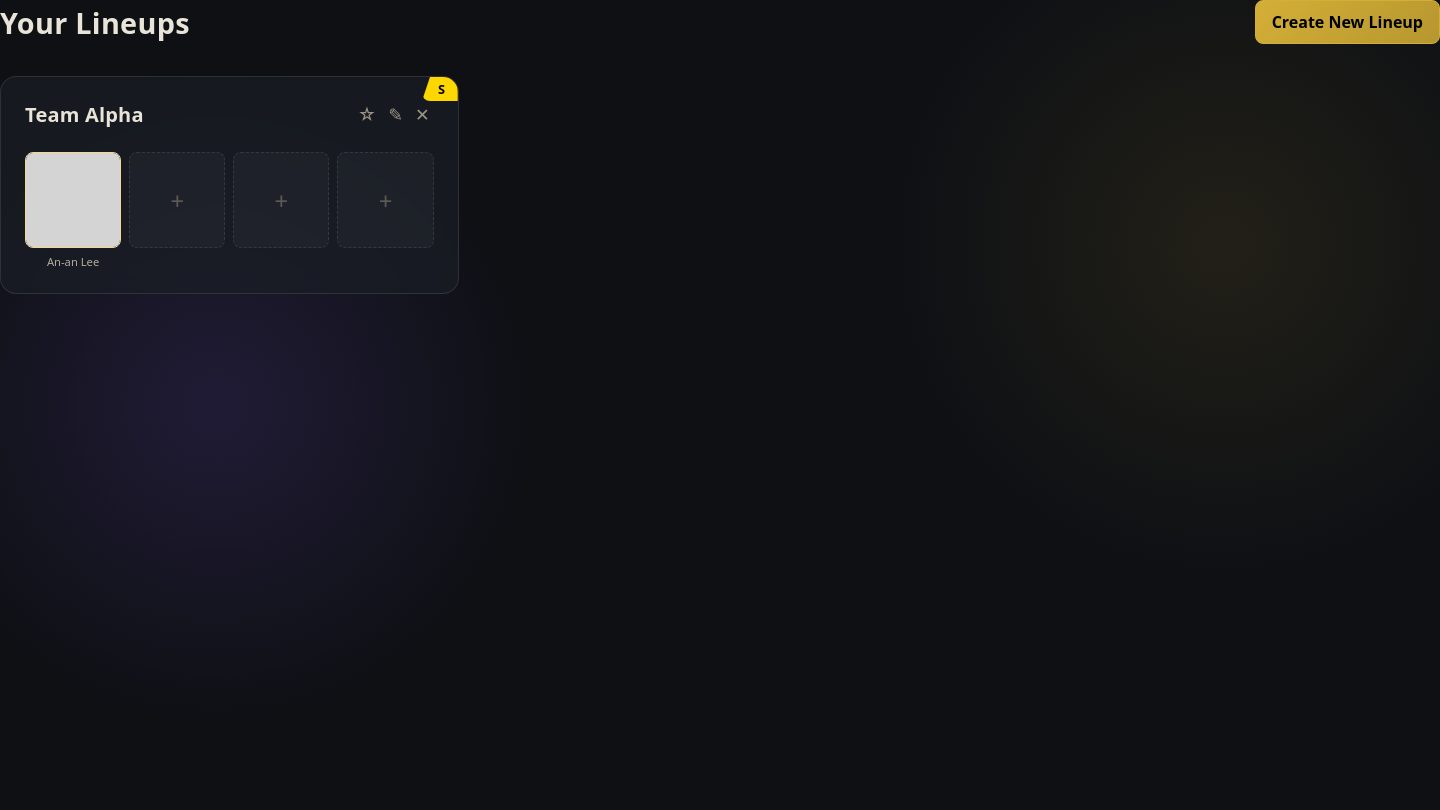
Test: PartiesTab (R1999 config wiring) › uses the Lineup noun with the tier selector enabled
This screenshot has width=1440, height=810.
Expected: the heading "Your Lineups" is shown, [0,2,190,42]
Step 1. Click the button "Create New Lineup" → coordinates (1347, 22), box [1255,0,1439,44]
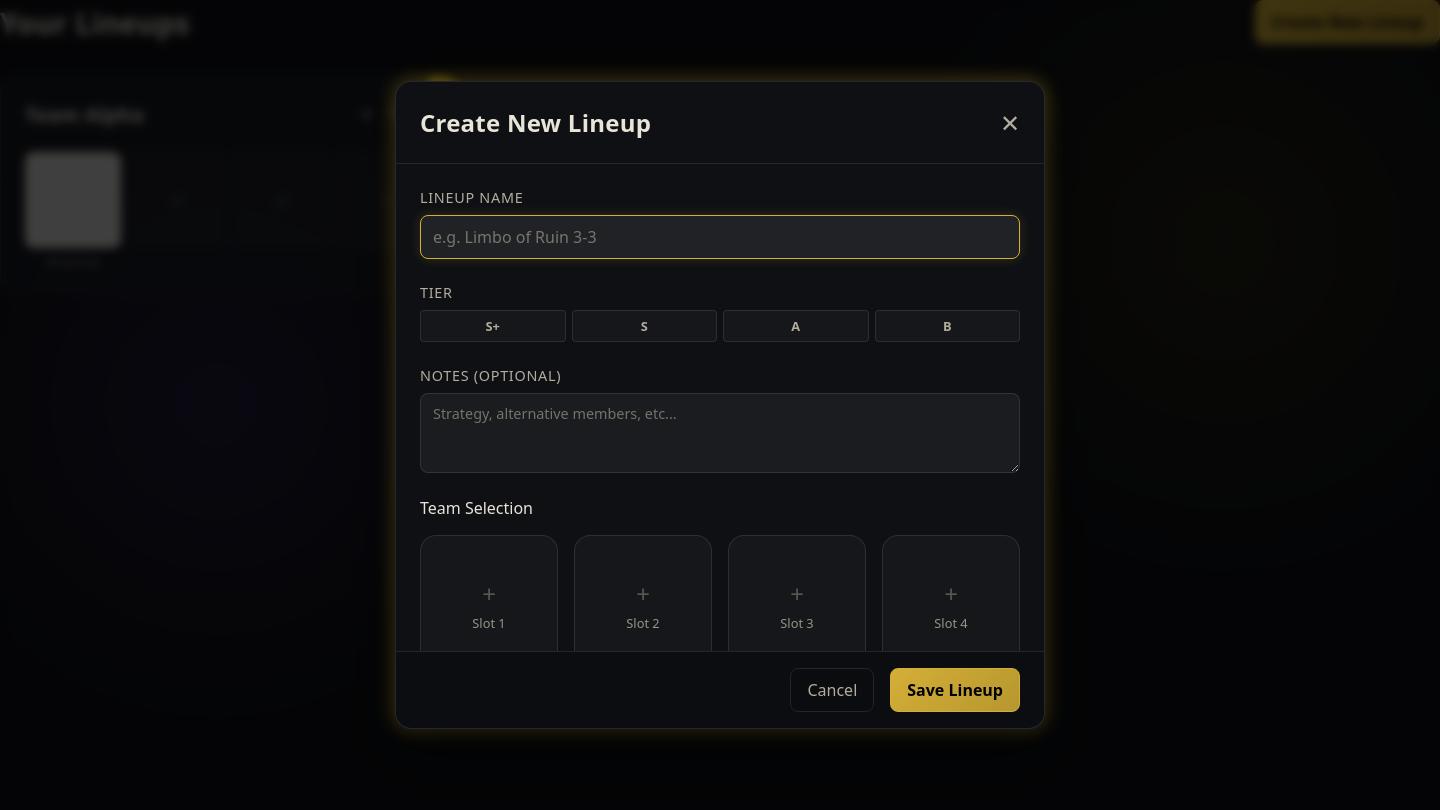
Expected: the field with placeholder "e.g. Limbo of Ruin 3-3" is shown, [420,215,1020,259]
Expected: the text "Tier" is shown, [420,283,453,302]
